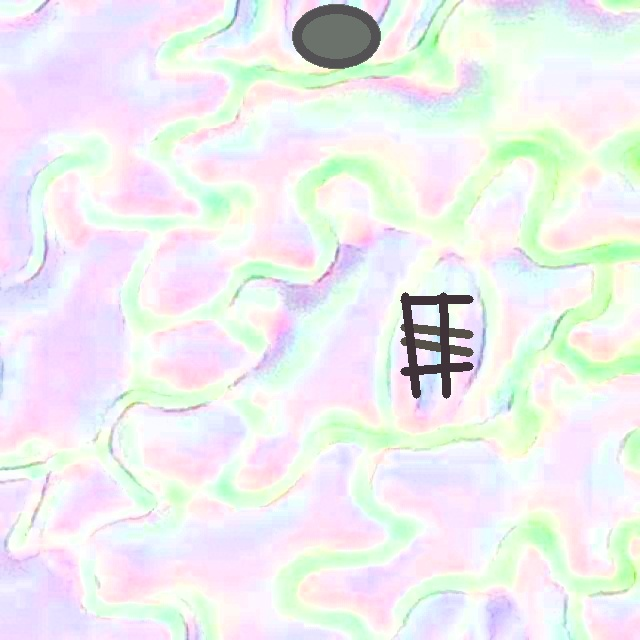open: (400, 292, 473, 398), (292, 3, 380, 69)
